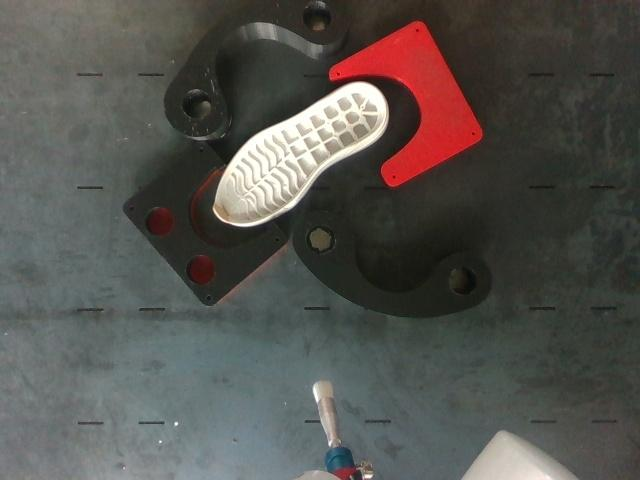shoes: (214, 85, 383, 224)
